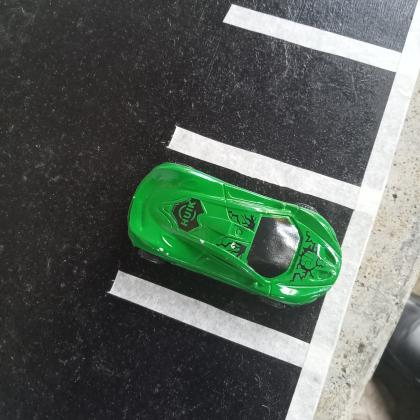Car: (125, 160, 342, 308)
